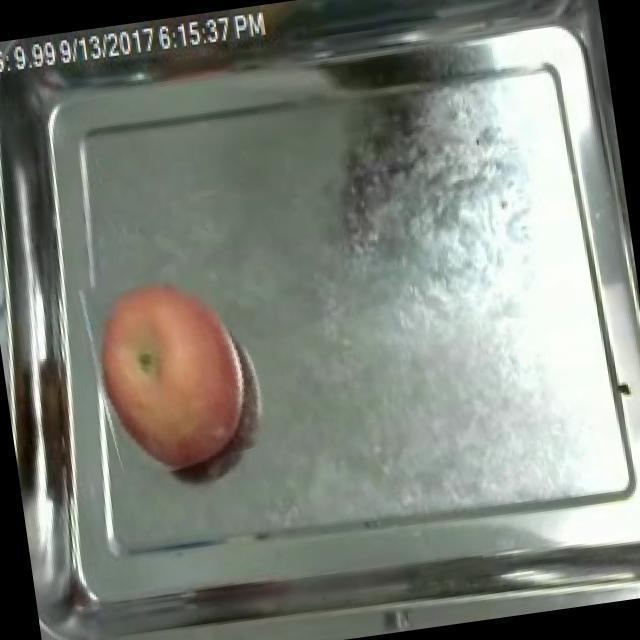apple: (101, 283, 246, 471)
